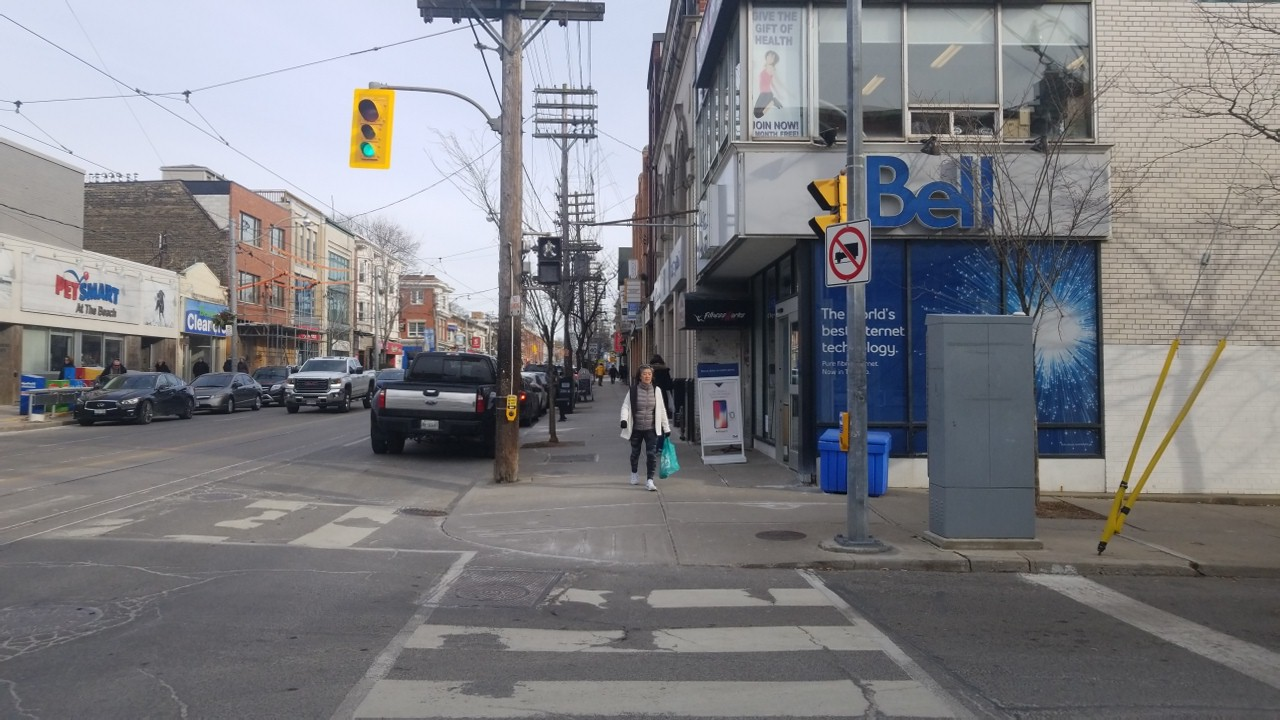light: (531, 230, 573, 290)
